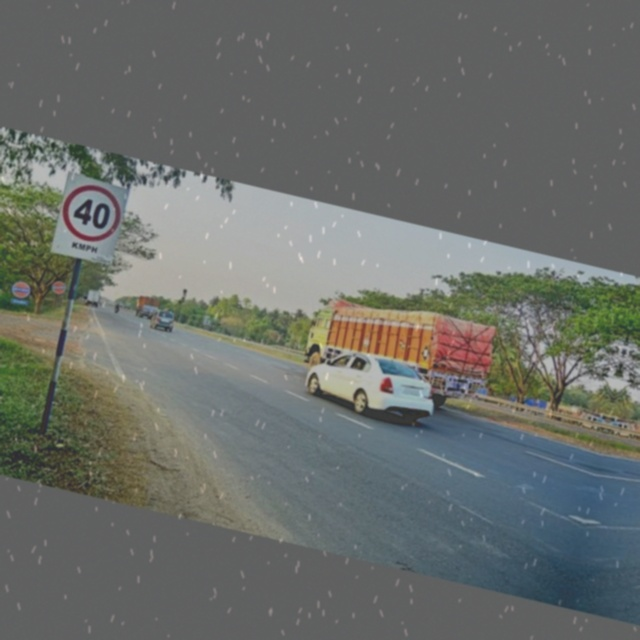Speed_Limit_40: (49, 169, 133, 271)
